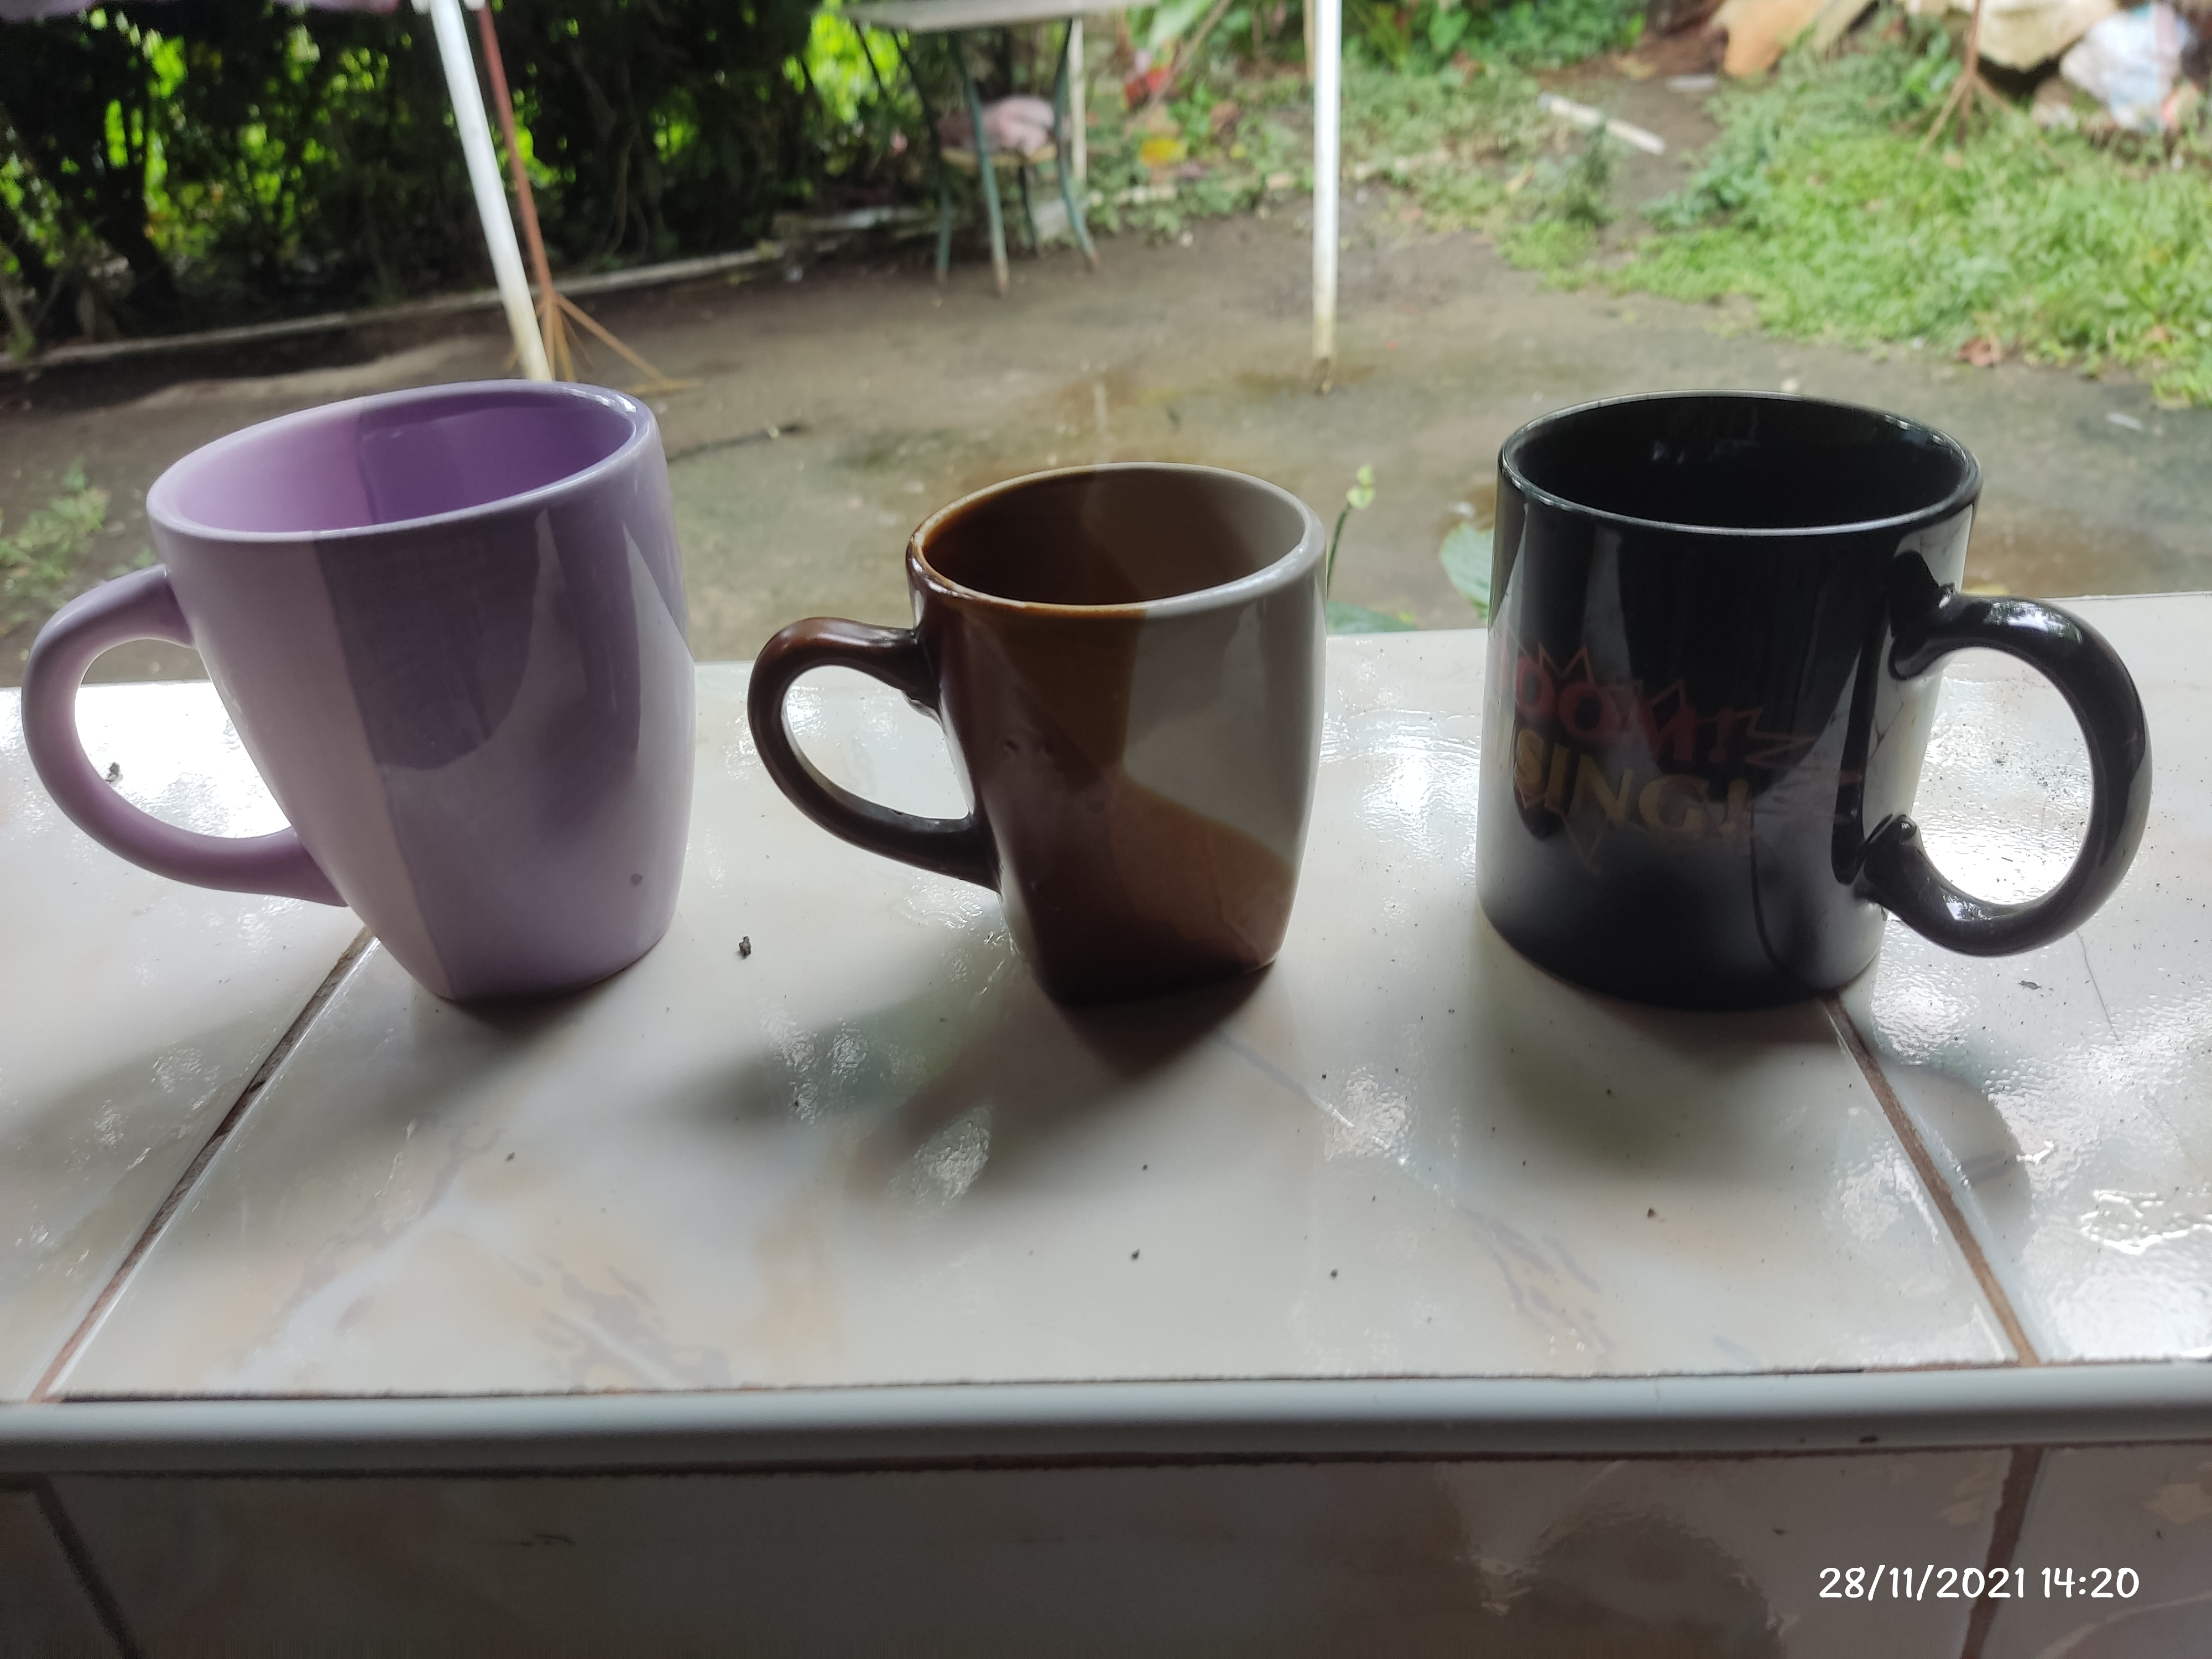mug: (33, 380, 688, 995), (1496, 392, 2144, 1009), (754, 462, 1318, 990)
